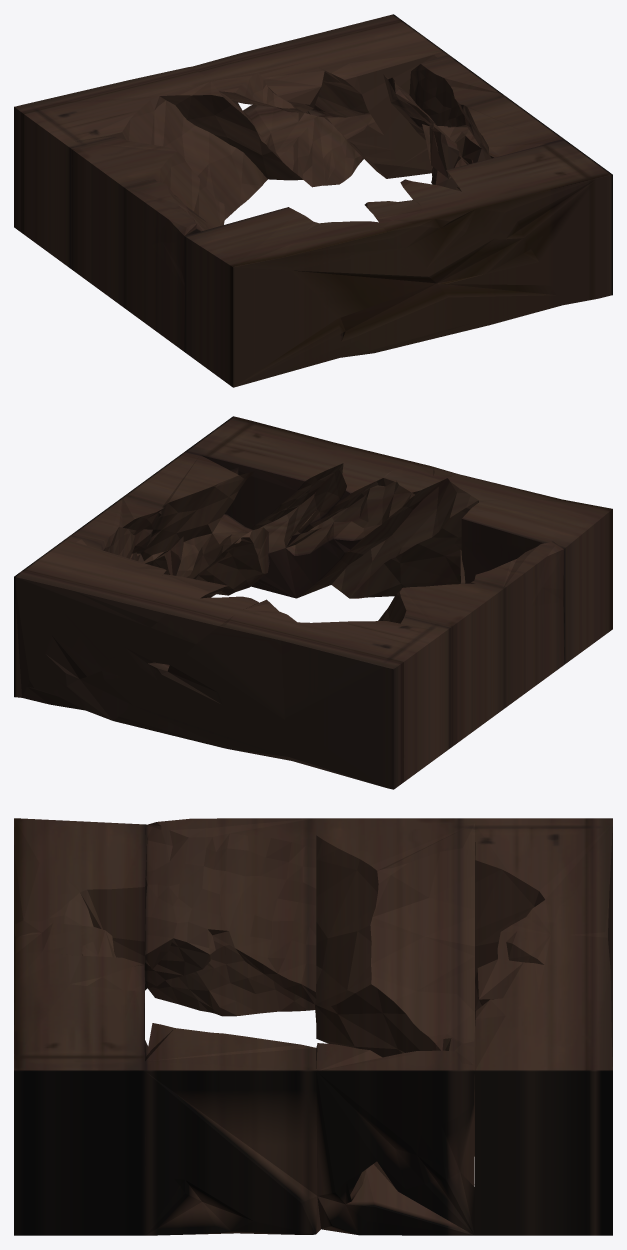
The model's file is Dug Out Area.fbx.
3 views of the same model, one above another, from view 1: azimuth 30°, elevation 25°; view 2: azimuth 150°, elevation 25°; view 3: azimuth 270°, elevation 25° (orthographic). The views are drawn at different scales.
Parts seen in each view (by area): view 1: Hole; view 2: Hole; view 3: Hole.
Part boxes in pixels (x1,y1,x2,y2): Hole: (14, 14, 612, 387); Hole: (14, 416, 612, 789); Hole: (14, 818, 612, 1235).
Bounding box in the file's own units: 100 × 30.3 × 100.
Materials: 1 (1 with a texture image).
